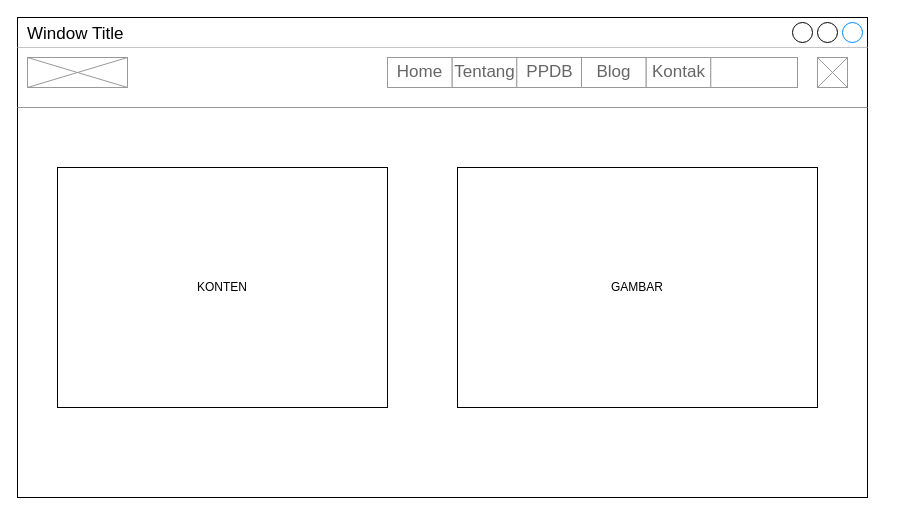
Some shapes in this 904 by 515 pixel diagram are drawn without their labels. Each missing label, with the centre of its shape:
"Dashboard" belongs at (754,72).
"LOGIN / REGISTER" belongs at (832,72).
"LOGO" belongs at (77,72).
